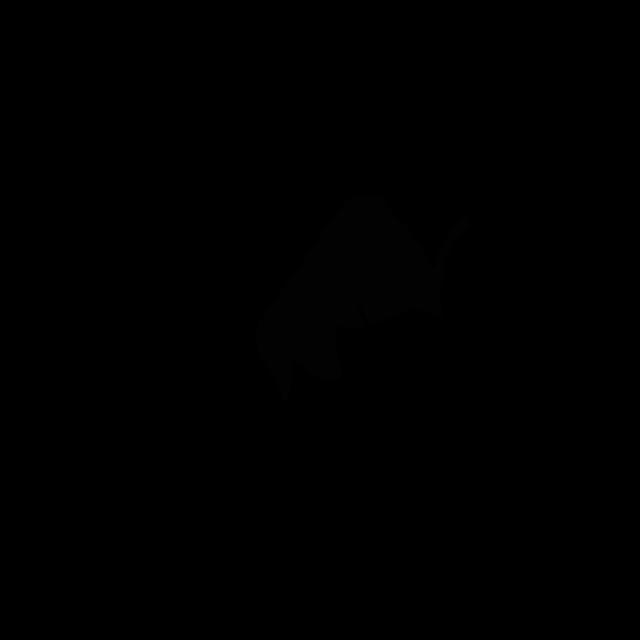cardboard: (256, 194, 470, 404)
